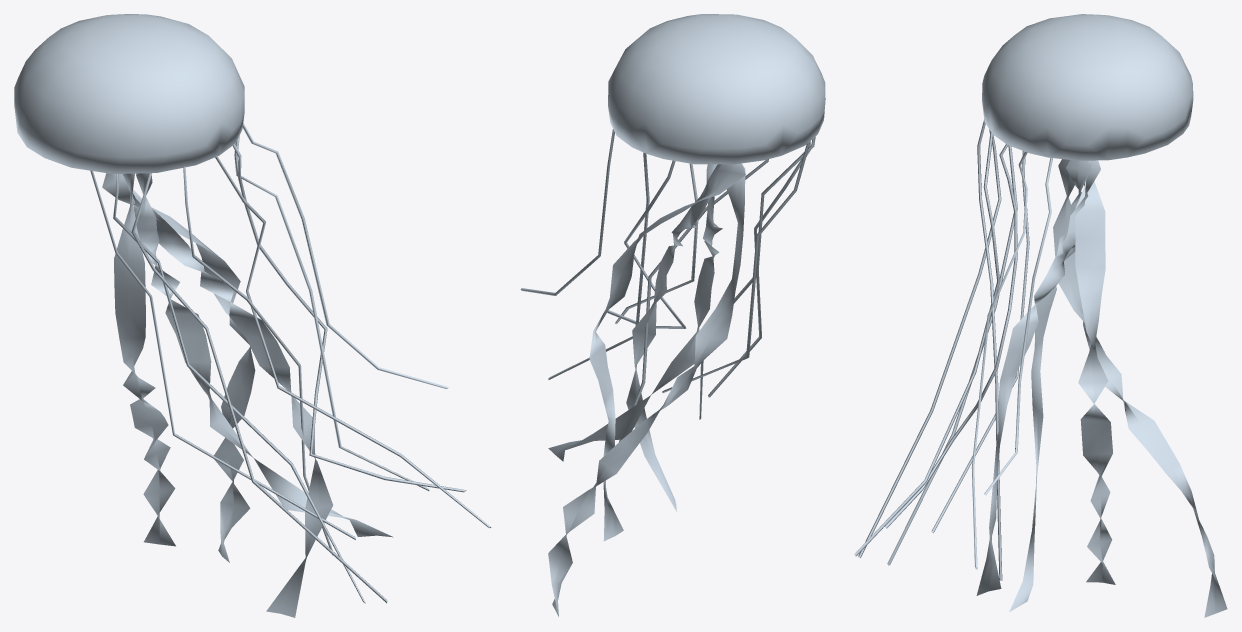
The model's file is jellyfish-prop.glb.
3 renders of one model, left to right at view 1: azimuth 30°, elevation 25°; view 2: azimuth 150°, elevation 25°; view 3: azimuth 270°, elevation 25°, orthographic. The views are drawn at different scales.
Visible parts, largest first — view 1: Circle.000; view 2: Circle.000; view 3: Circle.000.
Boxes of the visible parts, bbox=[...] form: Circle.000: bbox=[14, 14, 491, 617]; Circle.000: bbox=[520, 14, 825, 616]; Circle.000: bbox=[854, 14, 1227, 617].
Size of the model in its own units: 0.6268 by 0.9724 by 0.6096.
